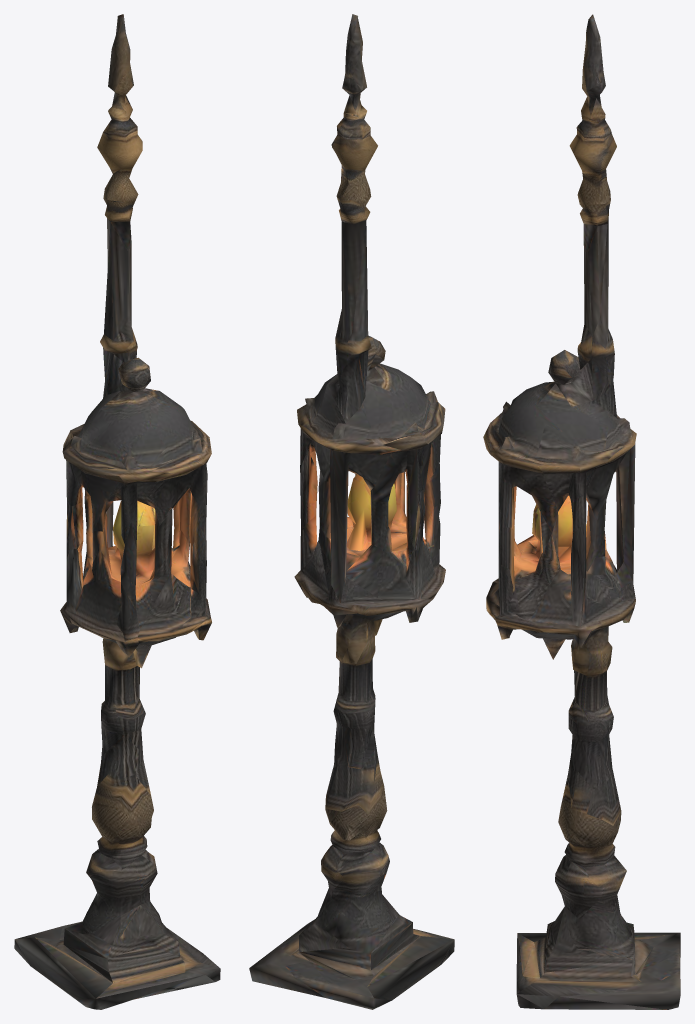
File: Aurion_Street_Lamp_LOD2.glb
3 views of the same model, side by side, from view 1: azimuth 30°, elevation 25°; view 2: azimuth 150°, elevation 25°; view 3: azimuth 270°, elevation 25° (orthographic).
Parts seen in each view (by area): view 1: Mesh_0; view 2: Mesh_0; view 3: Mesh_0.
Boxes of the visible parts, left/top/right/bottom form: Mesh_0: left=14, top=14, right=220, bottom=1009; Mesh_0: left=249, top=14, right=454, bottom=1009; Mesh_0: left=483, top=14, right=680, bottom=1009.
Bounding box in the file's own units: 0.2699 × 1.9 × 0.352.
1 material, 1 textured.
